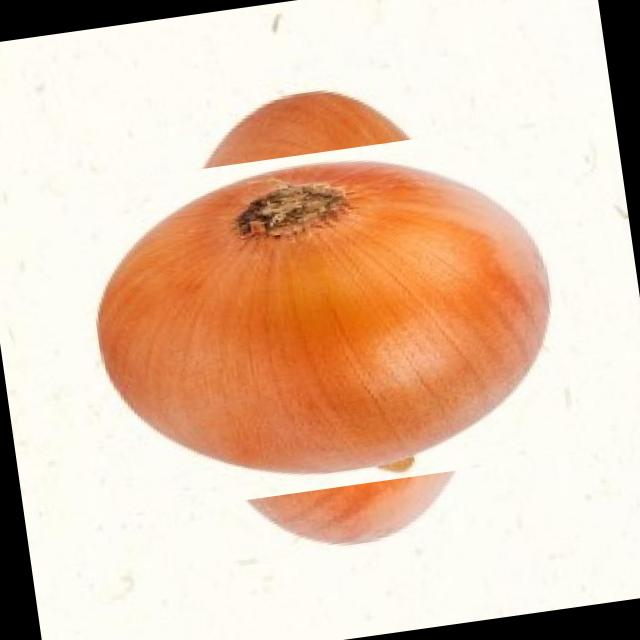Onion: (97, 92, 553, 548)
